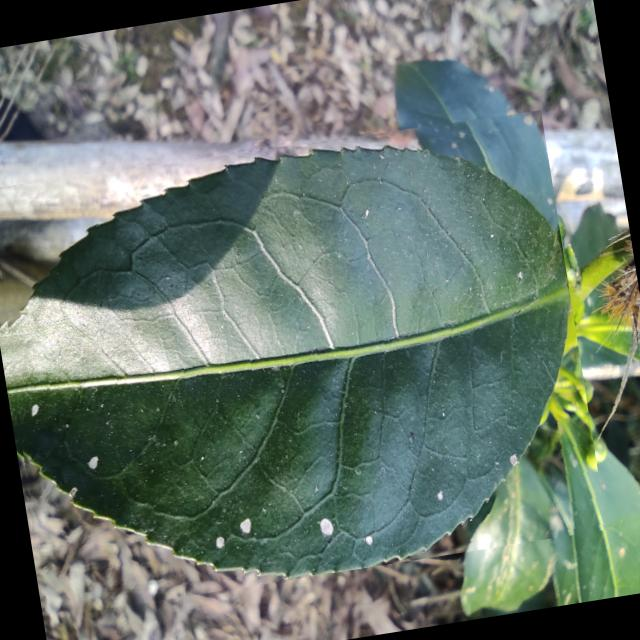Category D(7+ days, Not for Tea): (0, 101, 607, 618)
